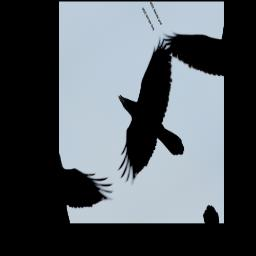Crow: (79, 36, 211, 196)
